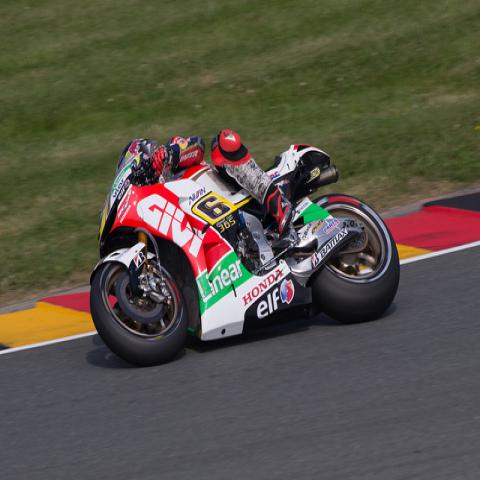motorcycle: (90, 134, 402, 364)
